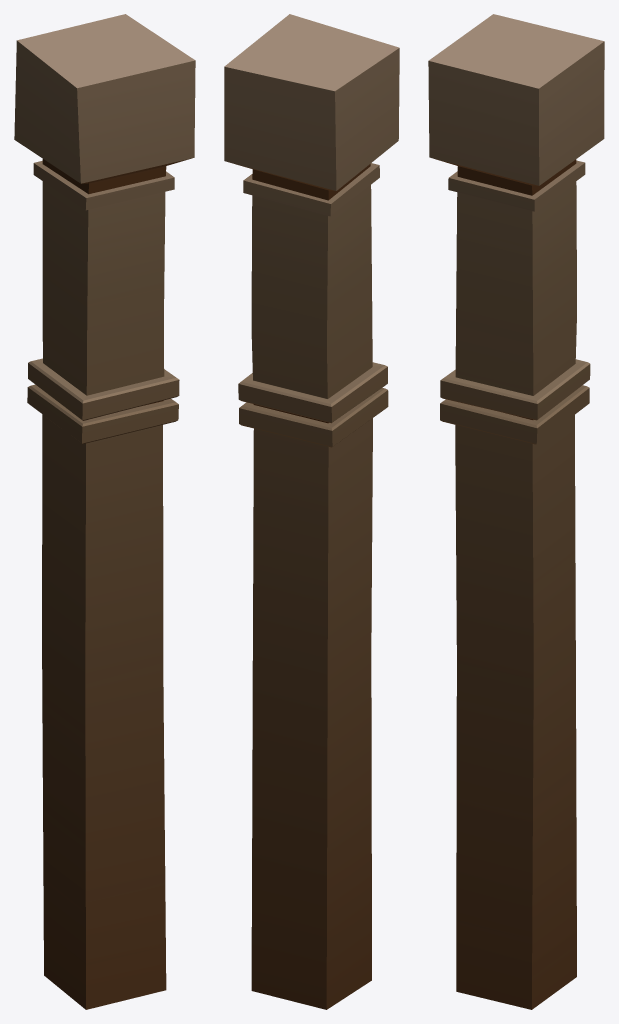
The model's file is Viga_01.fbx.
The picture shows the model from 3 angles, left to right: view 1: azimuth 30°, elevation 25°; view 2: azimuth 150°, elevation 25°; view 3: azimuth 330°, elevation 25°; orthographic projection.
Visible parts, largest first — view 1: Cube.036; view 2: Cube.036; view 3: Cube.036.
Part boxes in pixels (x1,y1,x2,y2): Cube.036: (14,14,195,1009); Cube.036: (224,14,399,1009); Cube.036: (428,14,604,1009).
Bounding box in the file's own units: 41.54 × 325 × 42.63.
